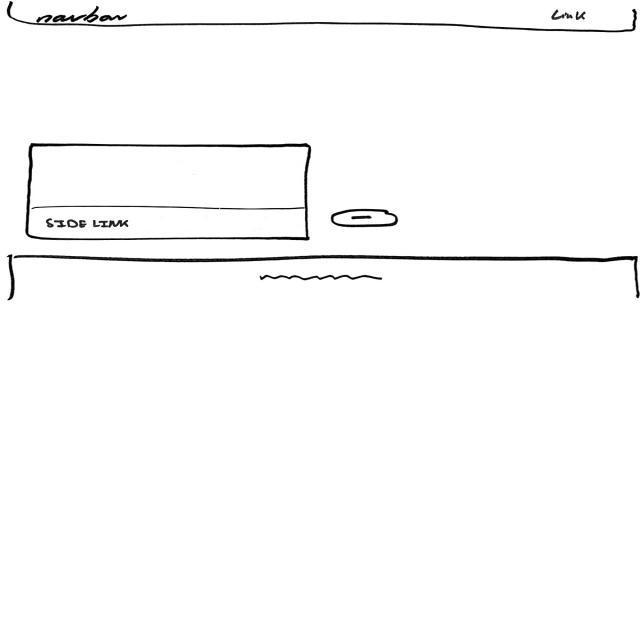container: (26, 143, 313, 245), (7, 1, 640, 34)
icon-button: (329, 208, 401, 230)
label: (34, 9, 130, 24), (45, 219, 134, 230), (552, 10, 590, 23)
text: (253, 274, 386, 284)
